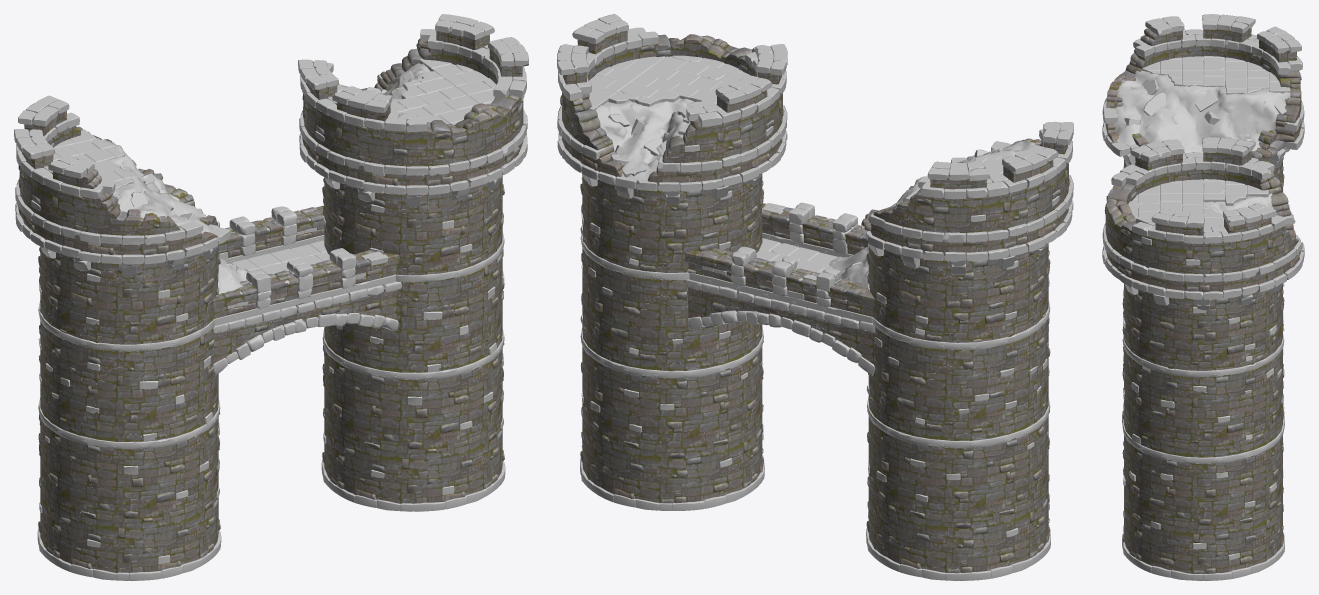
The picture shows the model from 3 angles, left to right: view 1: azimuth 30°, elevation 25°; view 2: azimuth 150°, elevation 25°; view 3: azimuth 270°, elevation 25°; orthographic projection. The views are drawn at different scales.
Visible parts, largest first — view 1: SM_Castle_Entrance_01_v3_Dmg_LOD0; view 2: SM_Castle_Entrance_01_v3_Dmg_LOD0; view 3: SM_Castle_Entrance_01_v3_Dmg_LOD0.
Boxes of the visible parts, <box> form: SM_Castle_Entrance_01_v3_Dmg_LOD0: <box>14,14,528,580</box>; SM_Castle_Entrance_01_v3_Dmg_LOD0: <box>557,14,1073,580</box>; SM_Castle_Entrance_01_v3_Dmg_LOD0: <box>1102,14,1304,580</box>.
Size of the model in its own units: 22.8 by 18.66 by 9.33.
